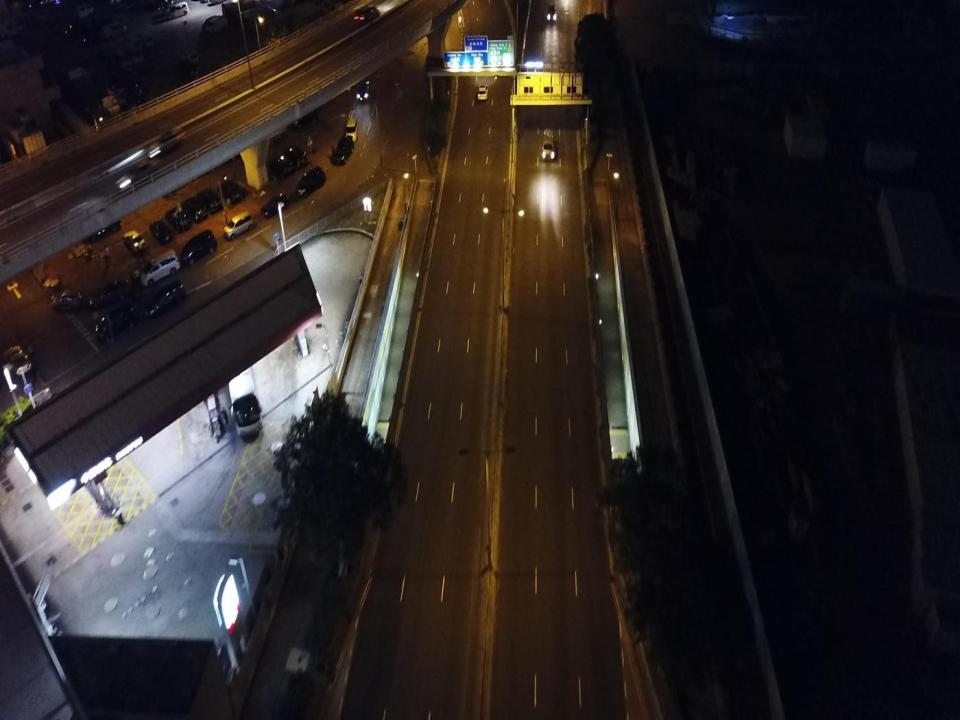bus: (226, 336, 263, 438)
car: (148, 126, 185, 156), (89, 281, 130, 307), (118, 161, 156, 189), (224, 210, 254, 240), (290, 102, 318, 131), (6, 344, 31, 374), (150, 219, 174, 246), (166, 207, 191, 232), (262, 192, 288, 216), (53, 290, 83, 310), (269, 154, 294, 178), (197, 188, 223, 211), (183, 197, 207, 221), (123, 230, 148, 253), (220, 180, 244, 202), (287, 147, 308, 168), (357, 80, 370, 102), (547, 4, 556, 23), (477, 86, 488, 100)
van: (140, 249, 180, 286), (98, 307, 136, 342), (181, 230, 216, 265), (146, 284, 185, 315), (84, 212, 122, 242), (297, 166, 326, 195), (332, 134, 353, 165), (354, 4, 380, 25), (543, 128, 556, 162), (346, 117, 358, 140)
